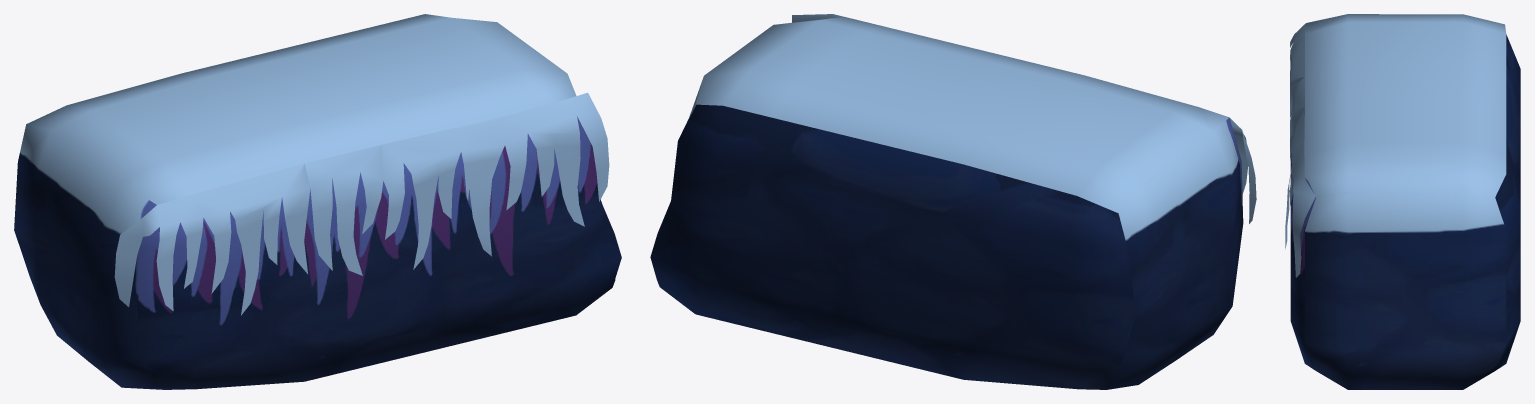
The model's file is BigPlatform.obj.
3 views of the same model, side by side, from view 1: azimuth 30°, elevation 25°; view 2: azimuth 150°, elevation 25°; view 3: azimuth 270°, elevation 25° (orthographic). The views are drawn at different scales.
Visible parts, largest first — view 1: polySurface5; view 2: polySurface5; view 3: polySurface5.
Part boxes in pixels (left/top/right/bottom): polySurface5: left=14, top=14, right=621, bottom=389; polySurface5: left=650, top=14, right=1256, bottom=389; polySurface5: left=1285, top=14, right=1520, bottom=389.
Size of the model in its own units: 4.26 by 1.96 by 2.05.
1 material, 1 textured.
